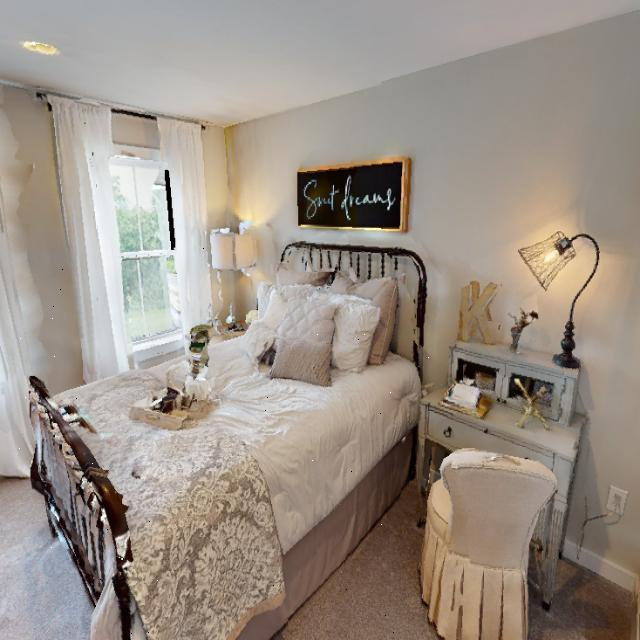bed: (9, 218, 434, 640)
chair: (398, 415, 554, 640)
